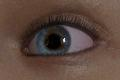eye: (36, 26, 71, 55)
